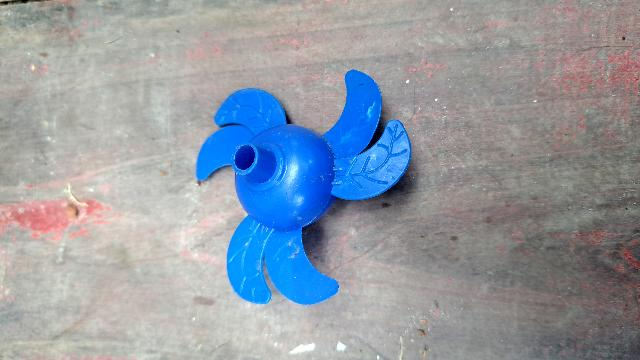hardplastic: (199, 73, 415, 305)
